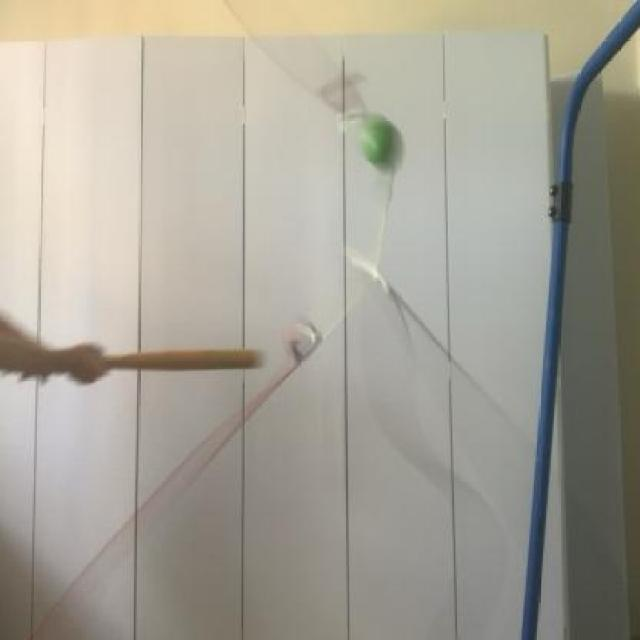baseball: (340, 106, 411, 186)
